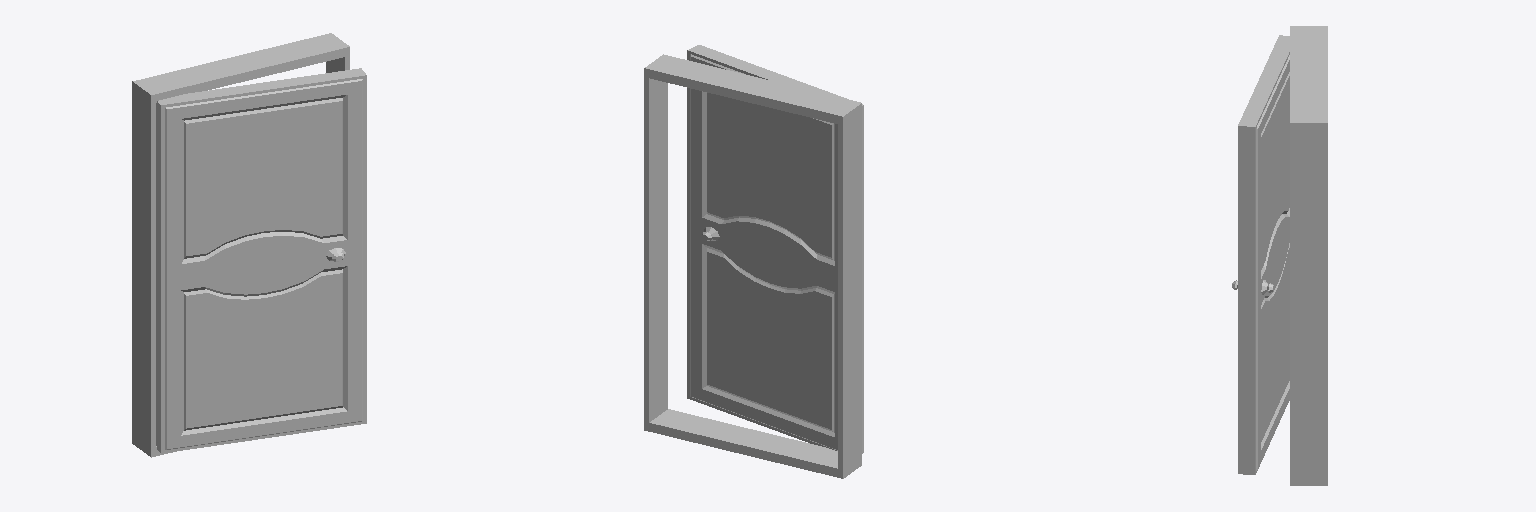
File: drzwiok_000032.obj
The picture shows the model from 3 angles: view 1: azimuth 30°, elevation 25°; view 2: azimuth 150°, elevation 25°; view 3: azimuth 270°, elevation 25°; orthographic projection.
Visible parts, largest first — view 1: Door_4.001_Cube.001, Kostka; view 2: Door_4.001_Cube.001, Kostka; view 3: Door_4.001_Cube.001, Kostka.
Part boxes in pixels (bbox=[...]): Door_4.001_Cube.001: bbox=[156, 68, 366, 453]; Kostka: bbox=[132, 33, 349, 457]; Door_4.001_Cube.001: bbox=[687, 45, 863, 453]; Kostka: bbox=[644, 54, 861, 478]; Door_4.001_Cube.001: bbox=[1232, 35, 1289, 474]; Kostka: bbox=[1290, 26, 1327, 485].
Bounding box in the file's own units: 0.7416 × 1.29 × 0.311.